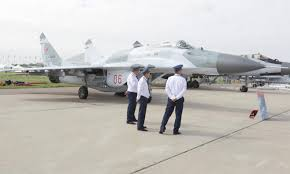fighter: (18, 31, 270, 103)
